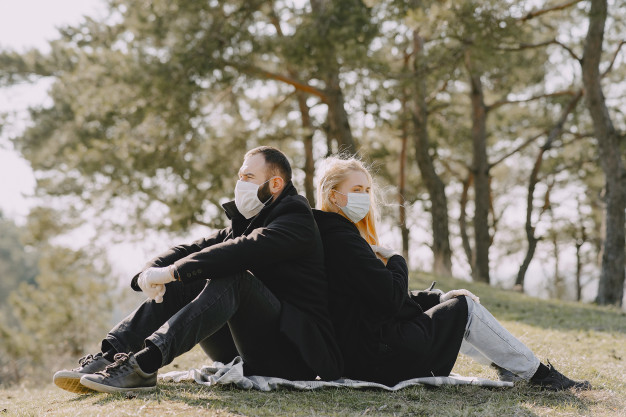with_mask: (224, 151, 291, 220), (319, 157, 374, 225)
